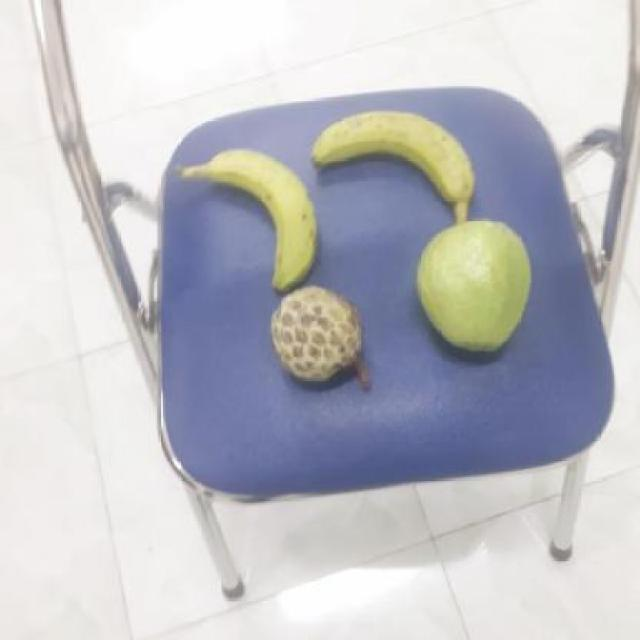banana: (316, 111, 484, 223), (199, 149, 327, 289)
guava: (418, 220, 538, 351)
sugar apple: (273, 287, 373, 385)
